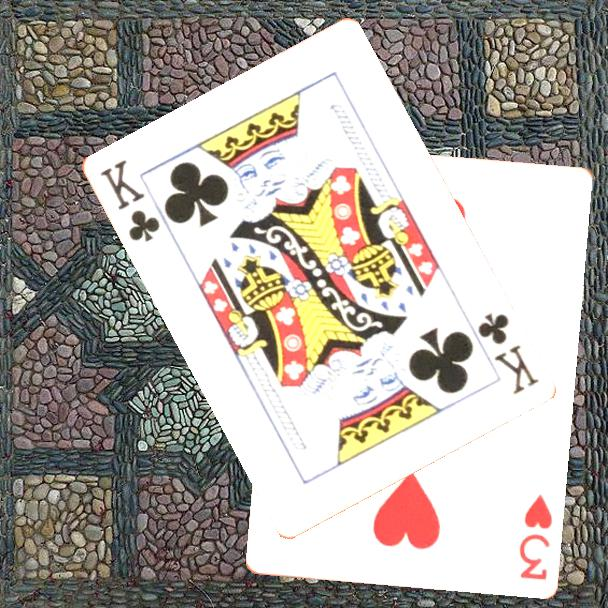c13: (95, 155, 163, 245), (473, 308, 541, 397)
h03: (515, 490, 555, 583)
